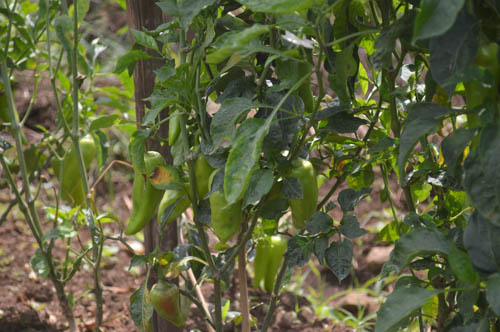ChiliPepper: (125, 153, 165, 238), (210, 169, 241, 246), (145, 285, 188, 326), (291, 165, 319, 227), (53, 152, 85, 201), (68, 138, 101, 182), (160, 181, 190, 227), (266, 238, 289, 294), (168, 100, 188, 150), (194, 153, 212, 195)
